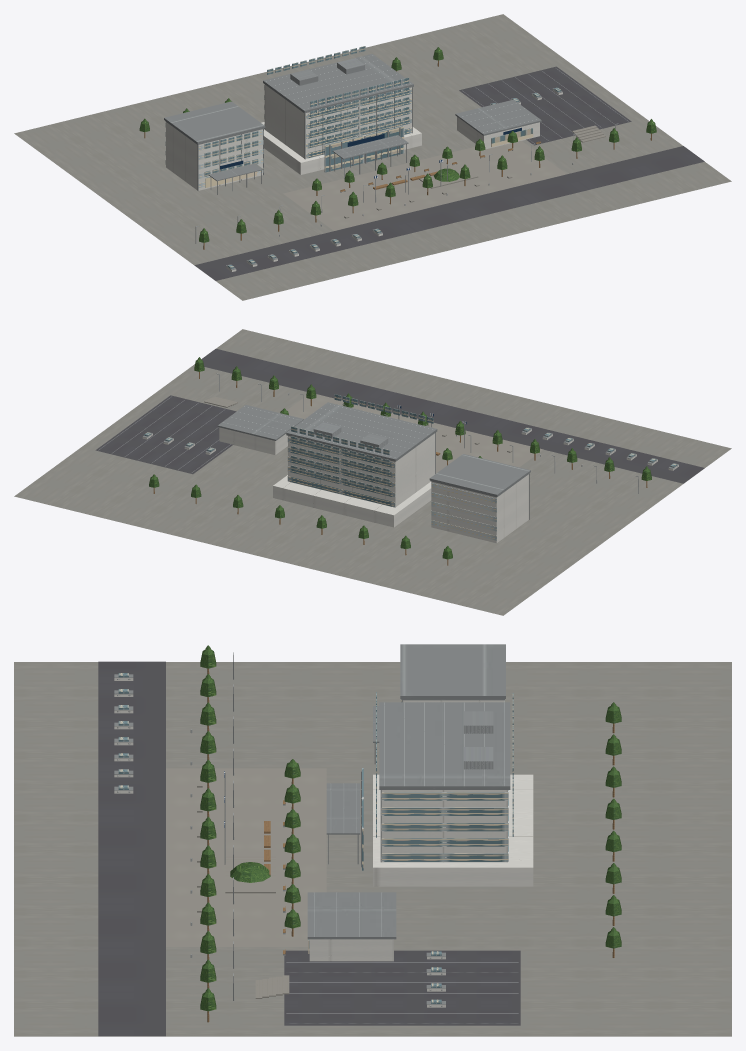
3 views of the same model, one above another, from view 1: azimuth 30°, elevation 25°; view 2: azimuth 150°, elevation 25°; view 3: azimuth 270°, elevation 25° (orthographic). The views are drawn at different scales.
Parts seen in each view (by area): view 1: 11440_50_03937_050_01a_ground, 11440_50_03937_050_01c_roof, 11440_50_03937_050_01b_stone, 11440_50_03937_050_01d_roof, 11440_50_03937_050_02b_trim, 11440_50_03937_050_02a_wall, 11440_50_03937_050_02g_glass, 11440_50_03937_050_06b_misc, 11440_50_03937_050_03a_wall, 11440_50_03937_050_03b_trim, 11440_50_03937_050_04b_trim, 11440_50_03937_050_02a_glass (+8 smaller); view 2: 11440_50_03937_050_01a_ground, 11440_50_03937_050_01c_roof, 11440_50_03937_050_01d_roof, 11440_50_03937_050_02b_trim, 11440_50_03937_050_02a_wall, 11440_50_03937_050_01b_stone, 11440_50_03937_050_02d_wall, 11440_50_03937_050_03a_wall, 11440_50_03937_050_02g_glass, 11440_50_03937_050_06b_misc, 11440_50_03937_050_03b_trim, 11440_50_03937_050_02a_glass (+5 smaller); view 3: 11440_50_03937_050_01a_ground, 11440_50_03937_050_01c_roof, 11440_50_03937_050_01b_stone, 11440_50_03937_050_01d_roof, 11440_50_03937_050_02b_trim, 11440_50_03937_050_06b_misc, 11440_50_03937_050_02d_wall, 11440_50_03937_050_03b_trim, 11440_50_03937_050_02a_glass, 11440_50_03937_050_02a_wall, 11440_50_03937_050_04b_trim, 11440_50_03937_050_04a_wall (+9 smaller).
Boxes of the visible parts, bbox=[...] form: 11440_50_03937_050_01a_ground: bbox=[14, 14, 731, 300]; 11440_50_03937_050_01c_roof: bbox=[194, 146, 704, 280]; 11440_50_03937_050_01b_stone: bbox=[283, 140, 566, 230]; 11440_50_03937_050_01d_roof: bbox=[459, 66, 631, 145]; 11440_50_03937_050_02b_trim: bbox=[263, 54, 413, 113]; 11440_50_03937_050_02a_wall: bbox=[264, 84, 411, 158]; 11440_50_03937_050_02g_glass: bbox=[267, 46, 409, 145]; 11440_50_03937_050_06b_misc: bbox=[139, 47, 656, 242]; 11440_50_03937_050_03a_wall: bbox=[166, 122, 262, 190]; 11440_50_03937_050_03b_trim: bbox=[164, 101, 265, 144]; 11440_50_03937_050_04b_trim: bbox=[455, 99, 541, 135]; 11440_50_03937_050_02a_glass: bbox=[264, 85, 411, 158]; 11440_50_03937_050_01a_ground: bbox=[14, 329, 731, 615]; 11440_50_03937_050_01c_roof: bbox=[194, 348, 704, 483]; 11440_50_03937_050_01d_roof: bbox=[95, 395, 236, 474]; 11440_50_03937_050_02b_trim: bbox=[286, 402, 437, 461]; 11440_50_03937_050_02a_wall: bbox=[288, 433, 435, 507]; 11440_50_03937_050_01b_stone: bbox=[287, 394, 543, 473]; 11440_50_03937_050_02d_wall: bbox=[273, 475, 431, 527]; 11440_50_03937_050_03a_wall: bbox=[431, 474, 528, 543]; 11440_50_03937_050_02g_glass: bbox=[291, 394, 433, 494]; 11440_50_03937_050_06b_misc: bbox=[149, 357, 651, 559]; 11440_50_03937_050_03b_trim: bbox=[429, 454, 530, 496]; 11440_50_03937_050_02a_glass: bbox=[287, 437, 395, 507]; 11440_50_03937_050_01a_ground: bbox=[14, 662, 731, 1036]; 11440_50_03937_050_01c_roof: bbox=[98, 661, 165, 1036]; 11440_50_03937_050_01b_stone: bbox=[166, 768, 326, 946]; 11440_50_03937_050_01d_roof: bbox=[284, 950, 520, 1025]; 11440_50_03937_050_02b_trim: bbox=[379, 702, 510, 789]; 11440_50_03937_050_06b_misc: bbox=[200, 645, 621, 1011]; 11440_50_03937_050_02d_wall: bbox=[373, 774, 533, 886]; 11440_50_03937_050_03b_trim: bbox=[400, 644, 505, 698]; 11440_50_03937_050_02a_glass: bbox=[381, 790, 508, 861]; 11440_50_03937_050_02a_wall: bbox=[381, 790, 507, 862]; 11440_50_03937_050_04b_trim: bbox=[307, 892, 396, 939]; 11440_50_03937_050_04a_wall: bbox=[309, 939, 393, 961].
Bounding box in the file's own units: 210 × 28.7 × 170.
11 materials, 11 textured.
